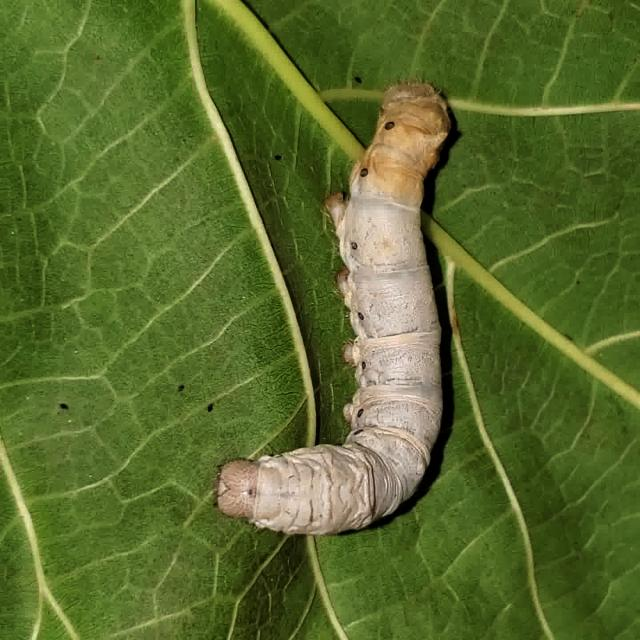Grasserie: (200, 61, 496, 566)
